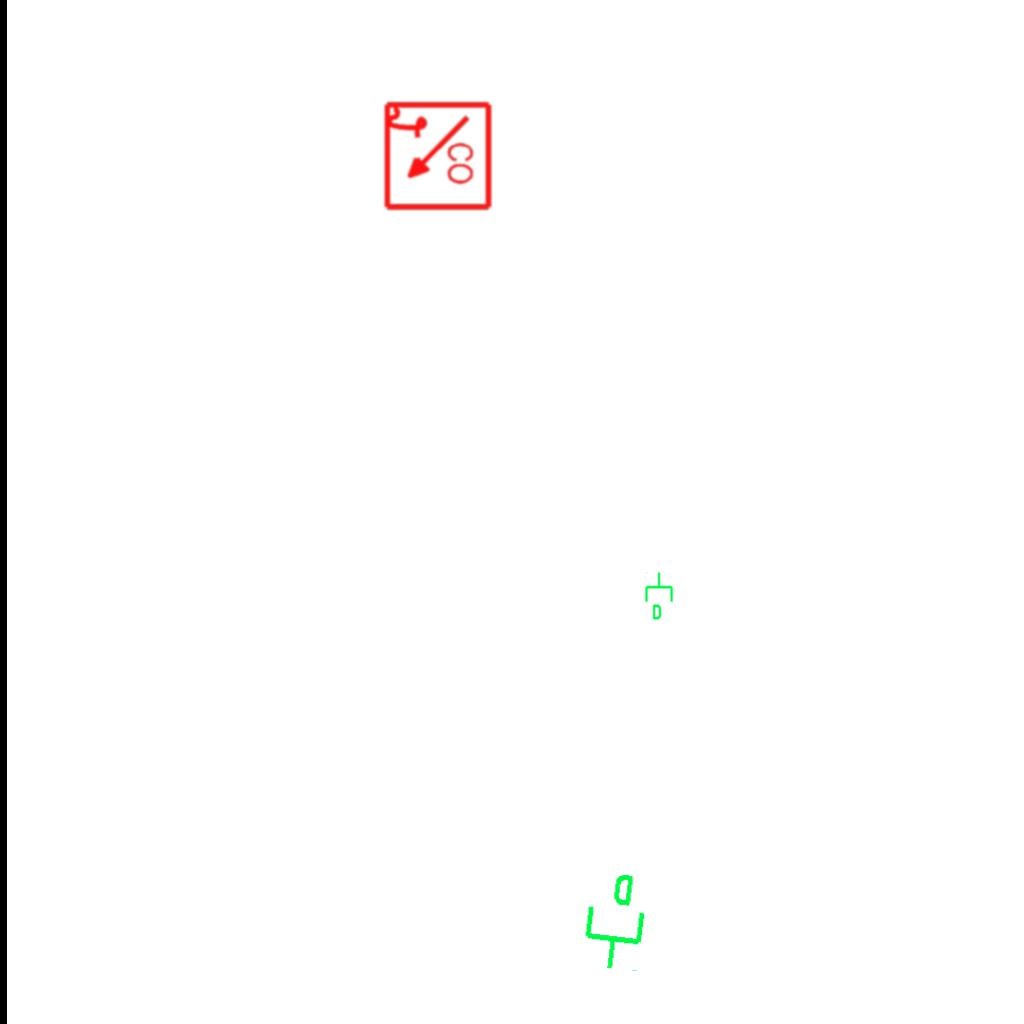Datenanschluss_einfach: (573, 867, 654, 975), (643, 571, 677, 621)
ROA_Rauchmelder_optisch_mit_Signalgeber_(Sockelsirene): (380, 100, 493, 213)
